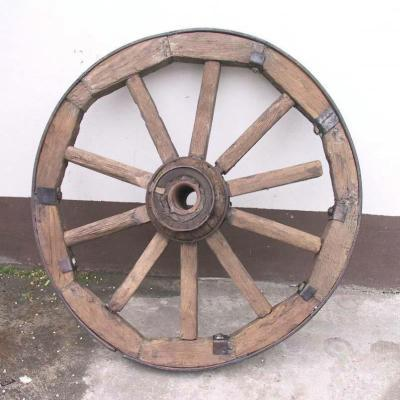other: (26, 29, 362, 373)
